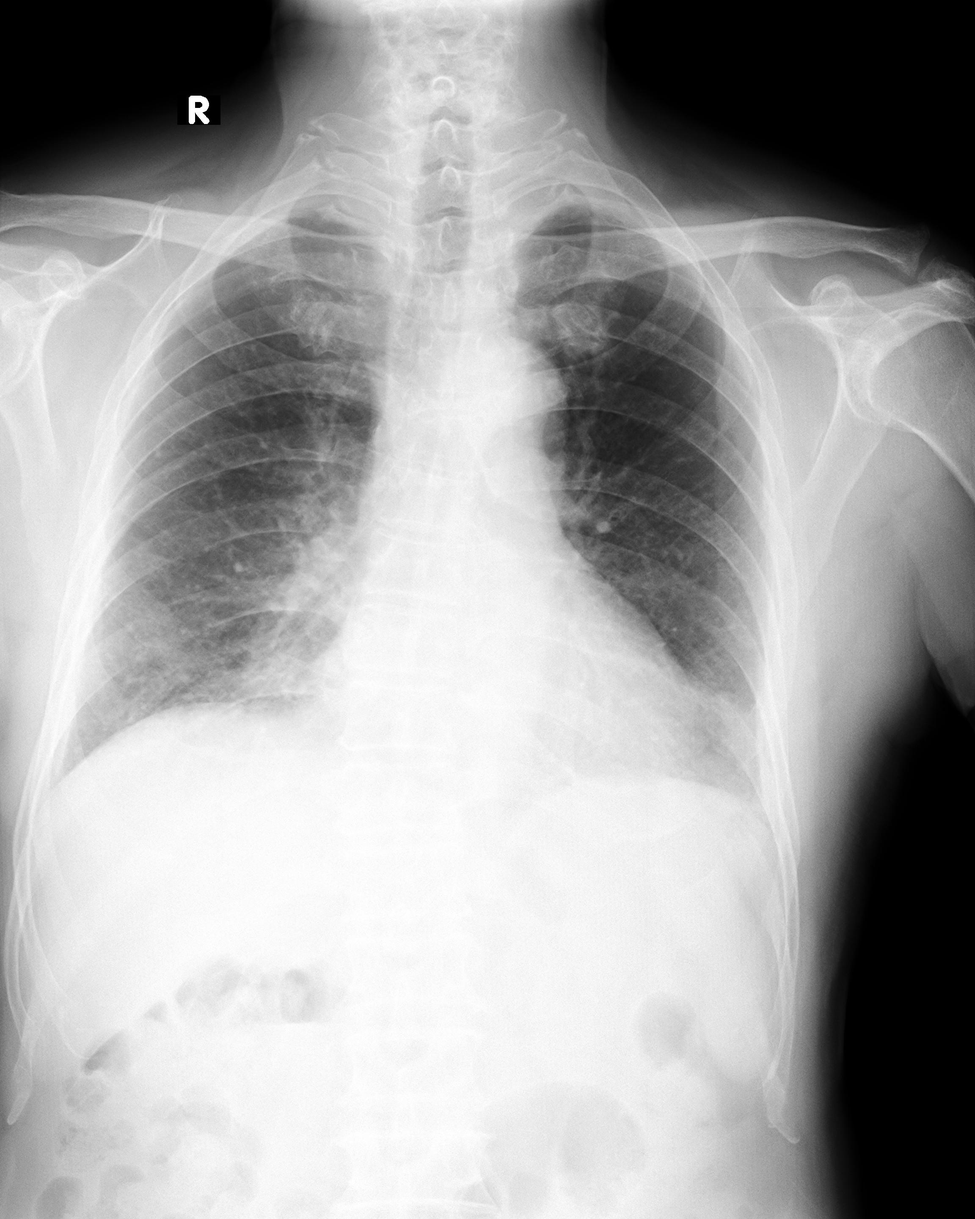Aortic enlargement: (453, 335, 570, 472)
Cardiomegaly: (319, 638, 704, 797)
